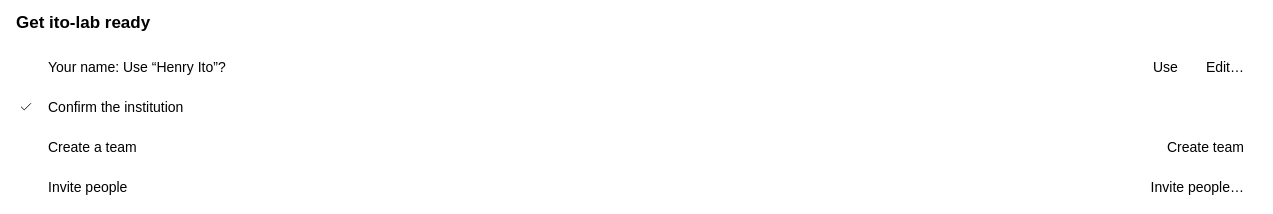
Test case: SetupChecklist: the name row keeps the card’s shape (Q4-48) › ticks the row the moment Use saved, before the workspace names the host
The image size is (1273, 214).
Check: the number of list items is 4, box [48, 57, 1256, 77]; [19, 98, 224, 115]; [48, 137, 1256, 157]; [48, 177, 1256, 197]
Click the button "Use": (1165, 67) [1141, 57, 1190, 77]
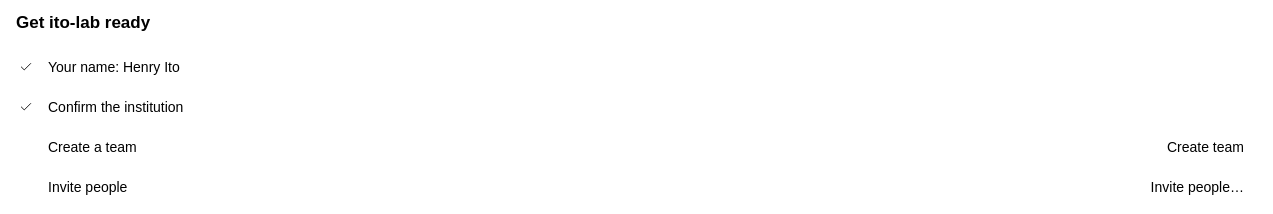
Check: the number of list items is 4, box [19, 58, 220, 75]; [19, 98, 224, 115]; [48, 137, 1256, 157]; [48, 177, 1256, 197]
Check: the button "Use" is gone
